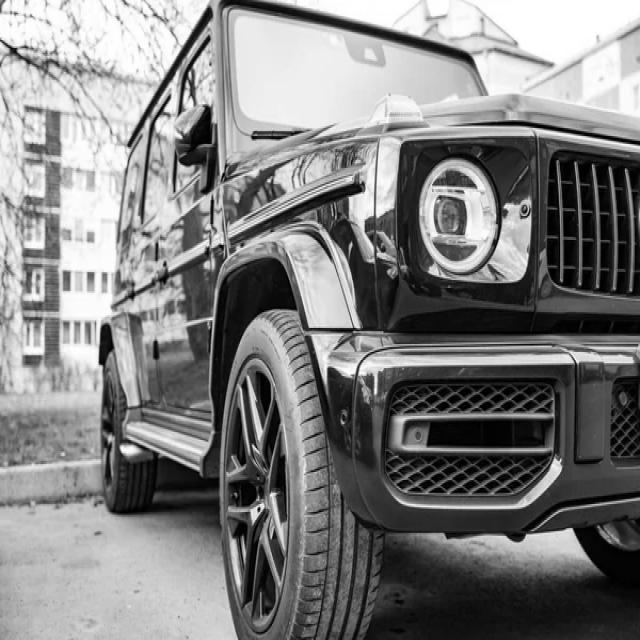Car: (99, 0, 640, 639)
